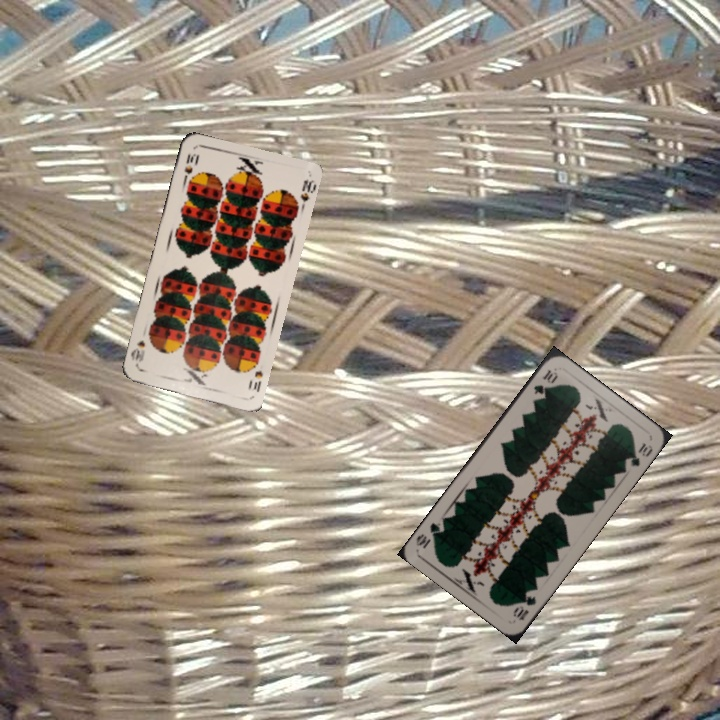G10: (529, 365, 560, 397), (509, 591, 539, 623)
S10: (179, 149, 199, 185), (249, 366, 265, 395)
